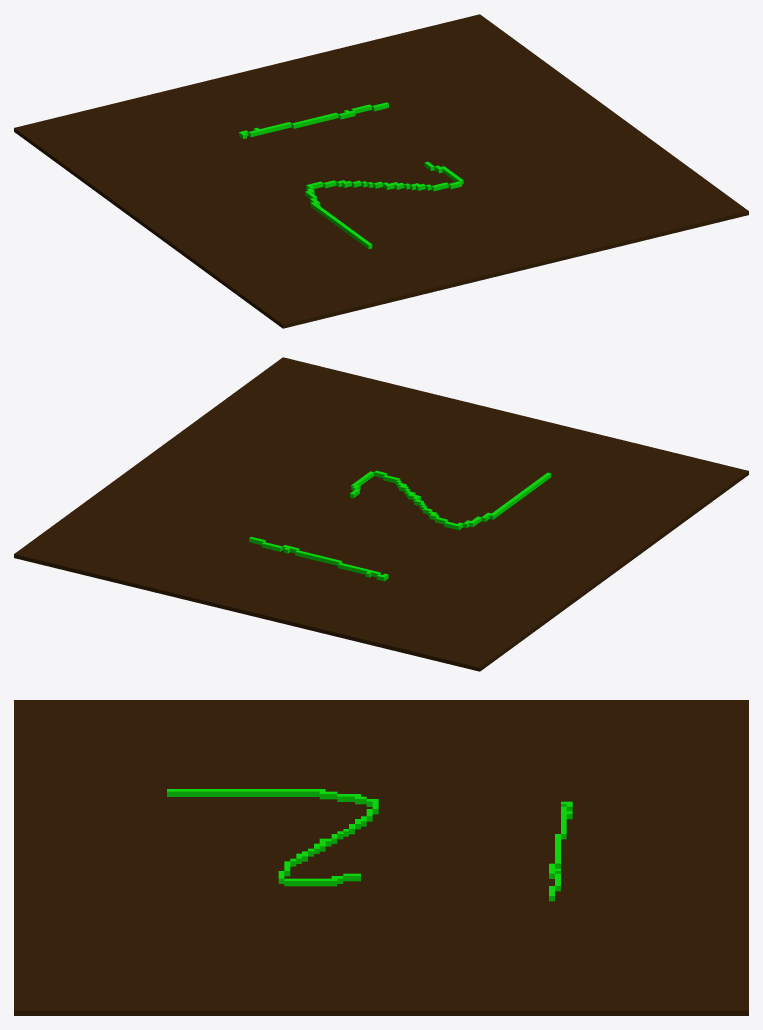
Rendered from Level01-11.obj.
3 views of the same model, one above another, from view 1: azimuth 30°, elevation 25°; view 2: azimuth 150°, elevation 25°; view 3: azimuth 270°, elevation 25° (orthographic). The views are drawn at different scales.
Visible parts, largest first — view 1: Level01-11; view 2: Level01-11; view 3: Level01-11.
Boxes of the visible parts, <box> form: Level01-11: <box>14,14,748,328</box>; Level01-11: <box>14,357,748,671</box>; Level01-11: <box>14,700,748,1015</box>.
Bounding box in the file's own units: 125 × 2 × 125.
1 material, 1 textured.
